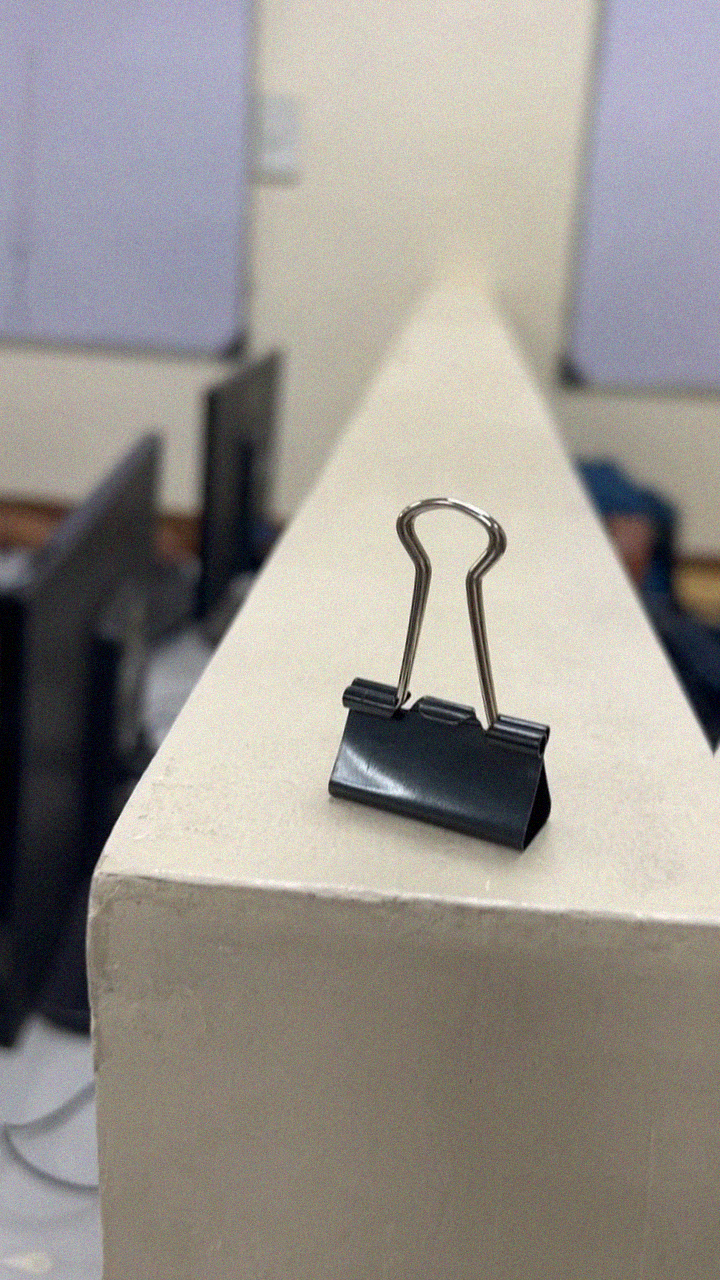kep_giay: (322, 487, 574, 850)
